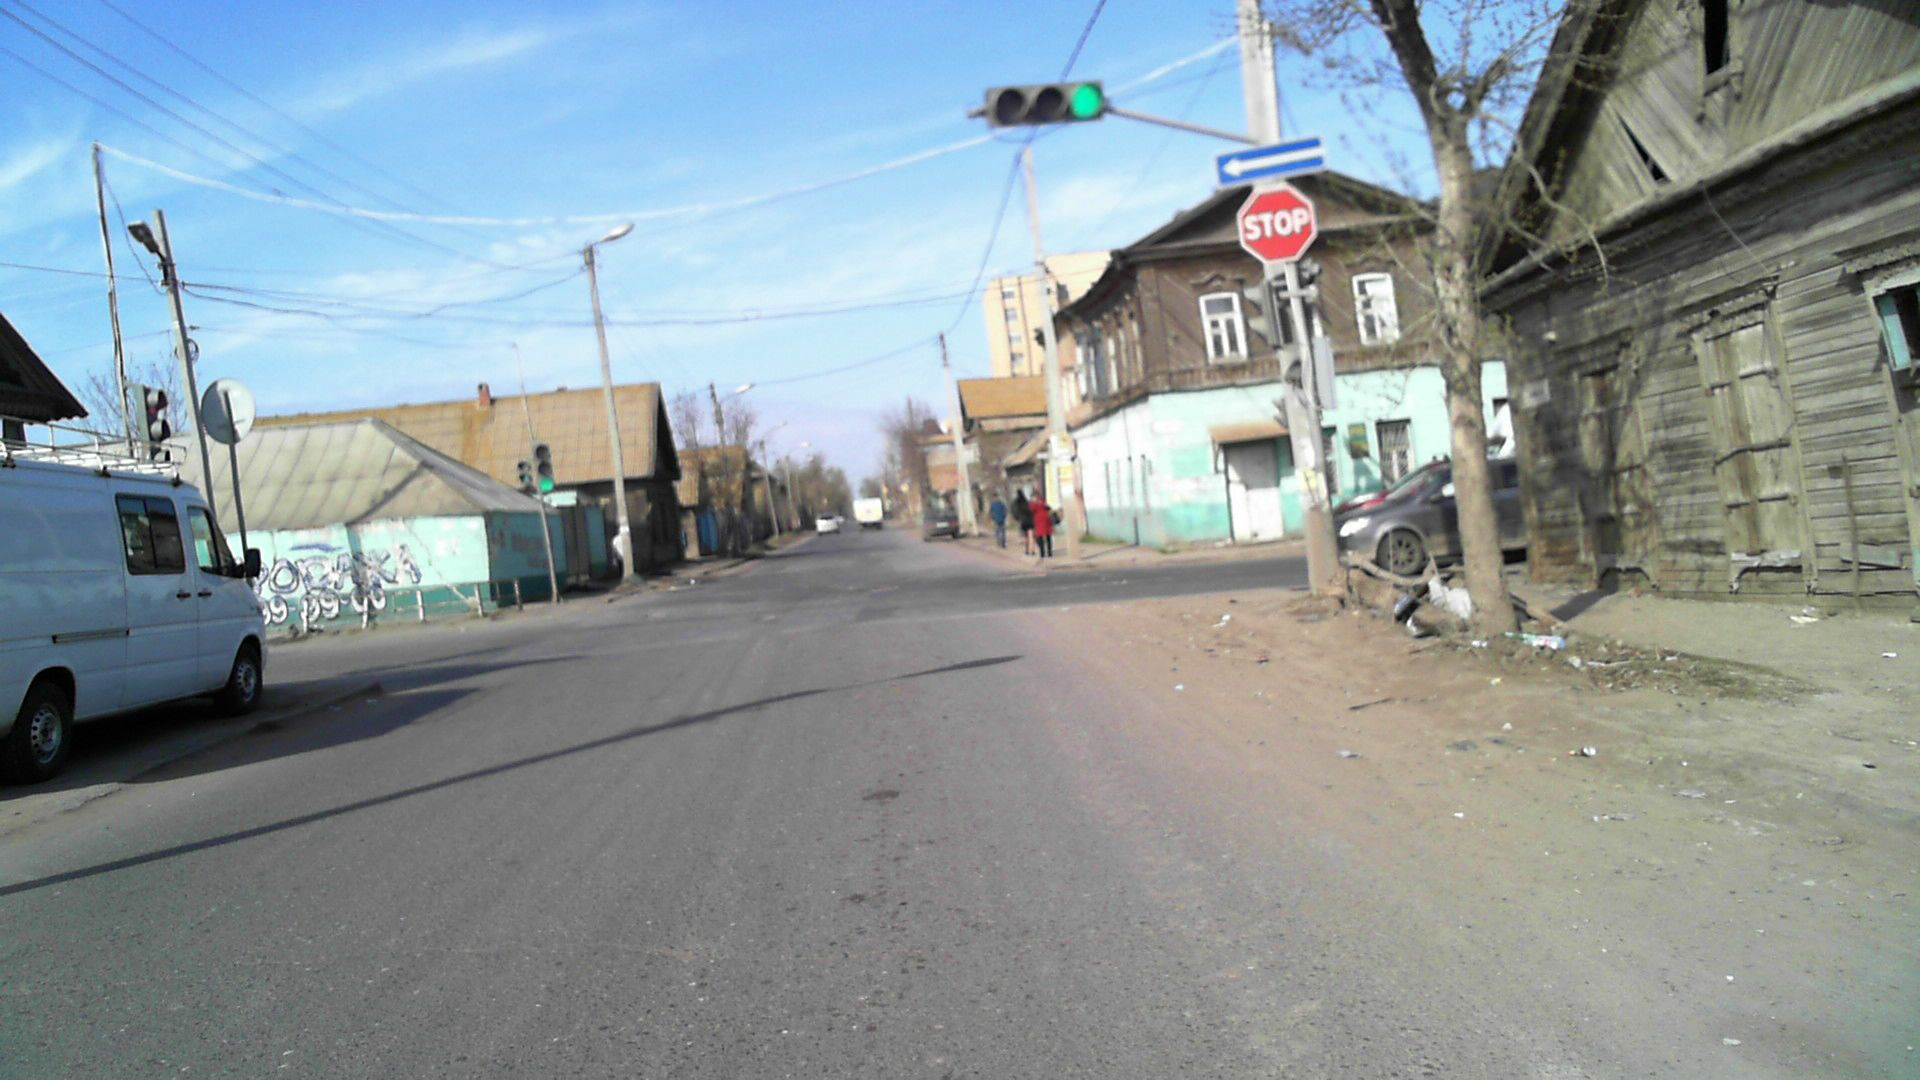One-Way Traffic: (1218, 137, 1323, 183)
